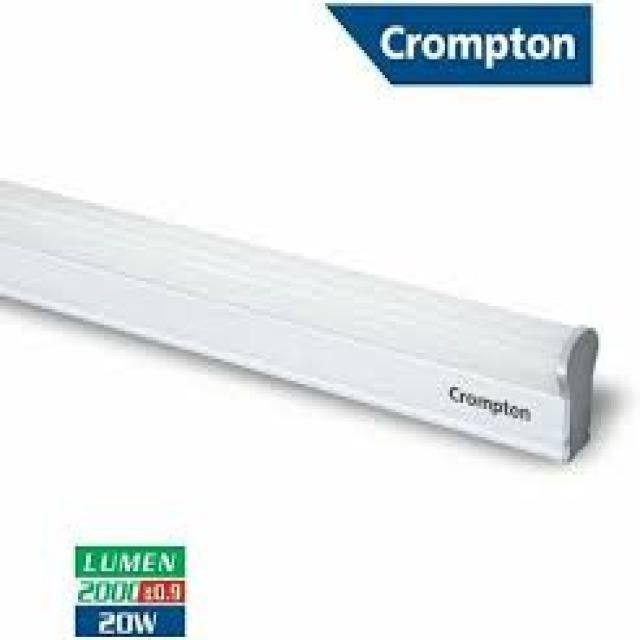tubelight_off: (0, 169, 618, 472)
